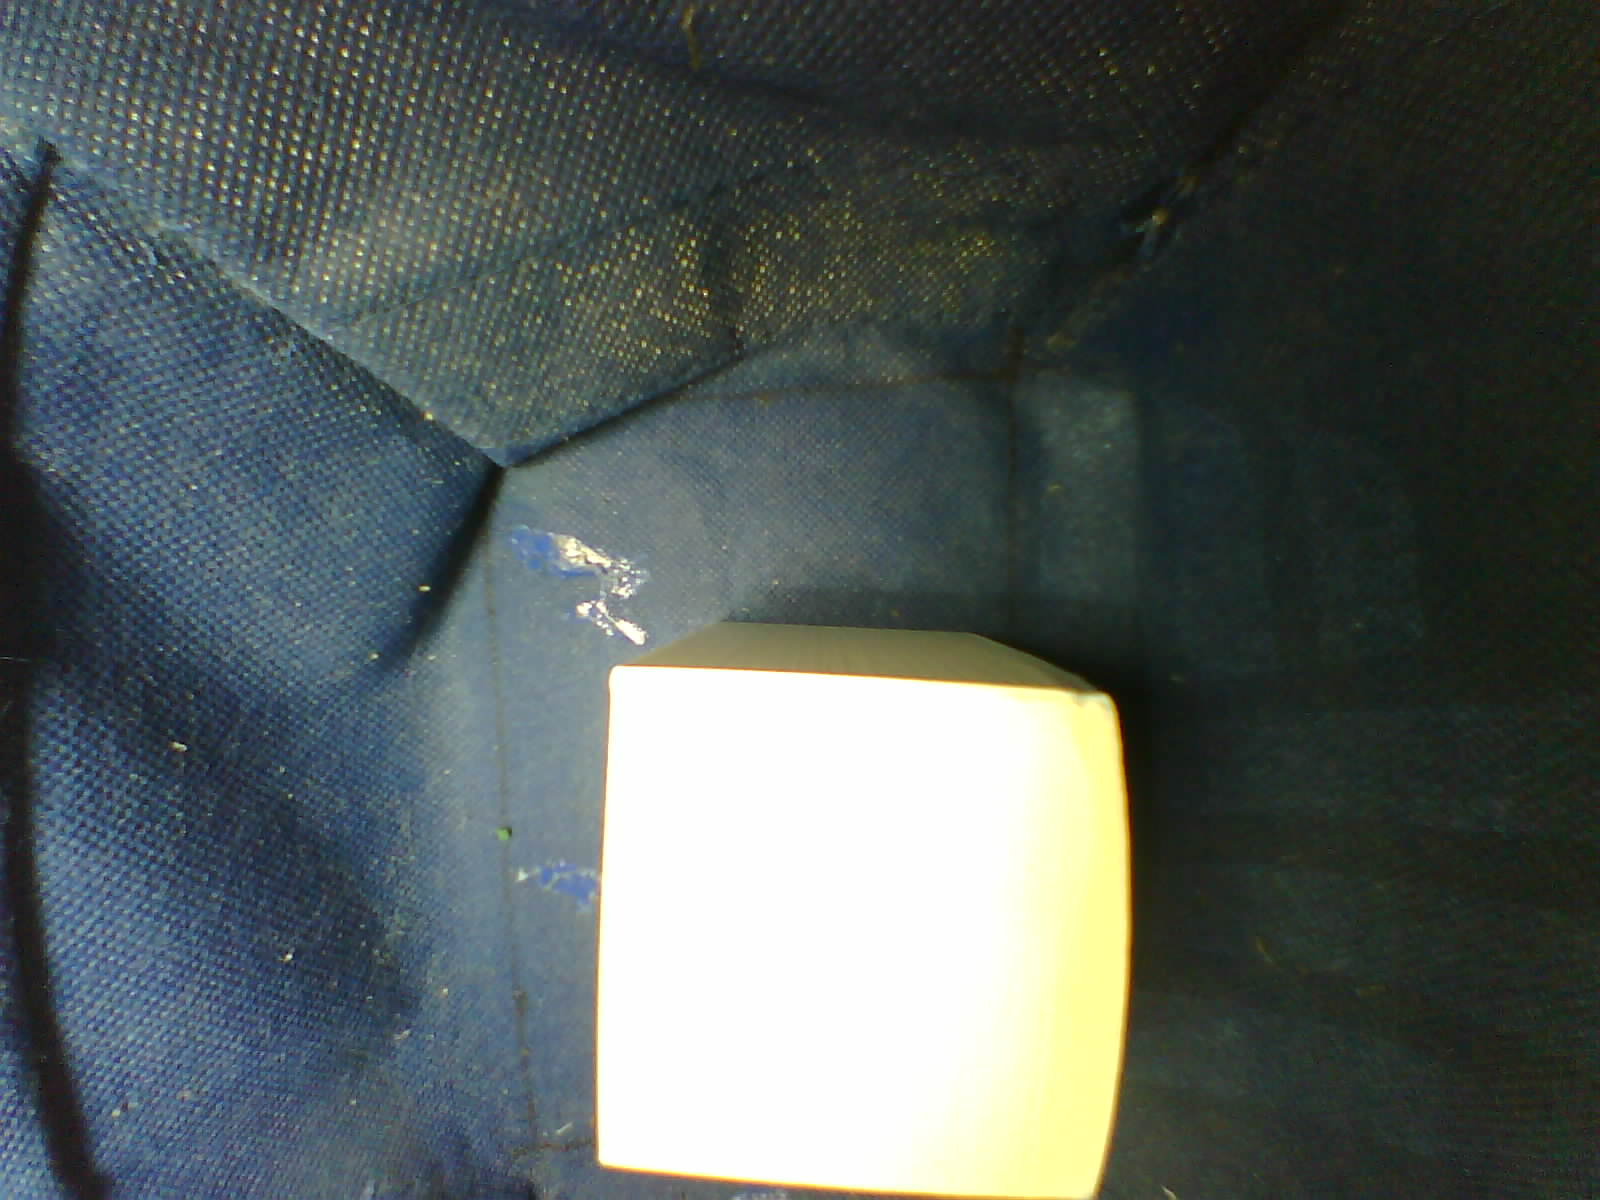cube-hard: (559, 581, 1162, 1200)
